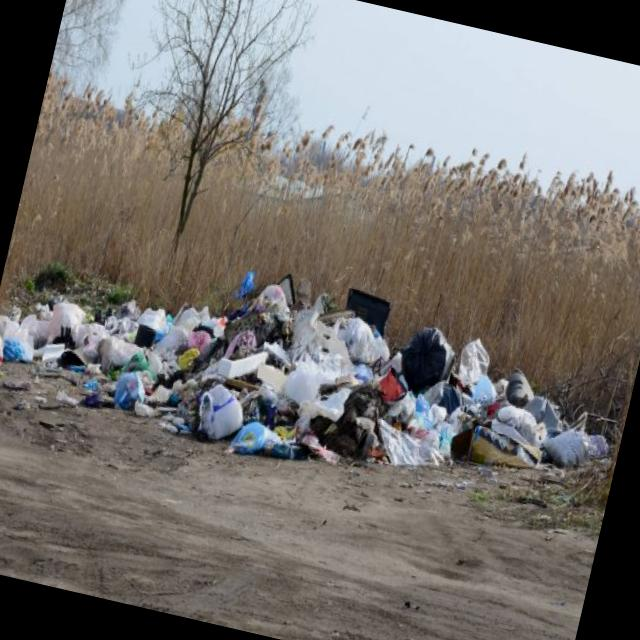garbage: (0, 191, 496, 571)
